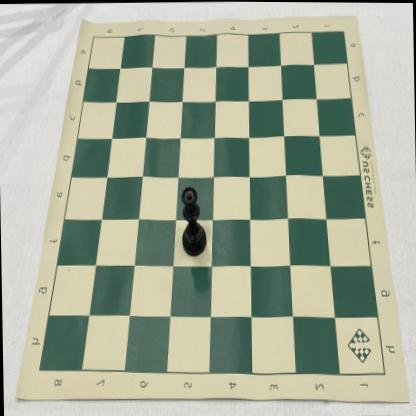black-queen: (180, 186, 207, 257)
